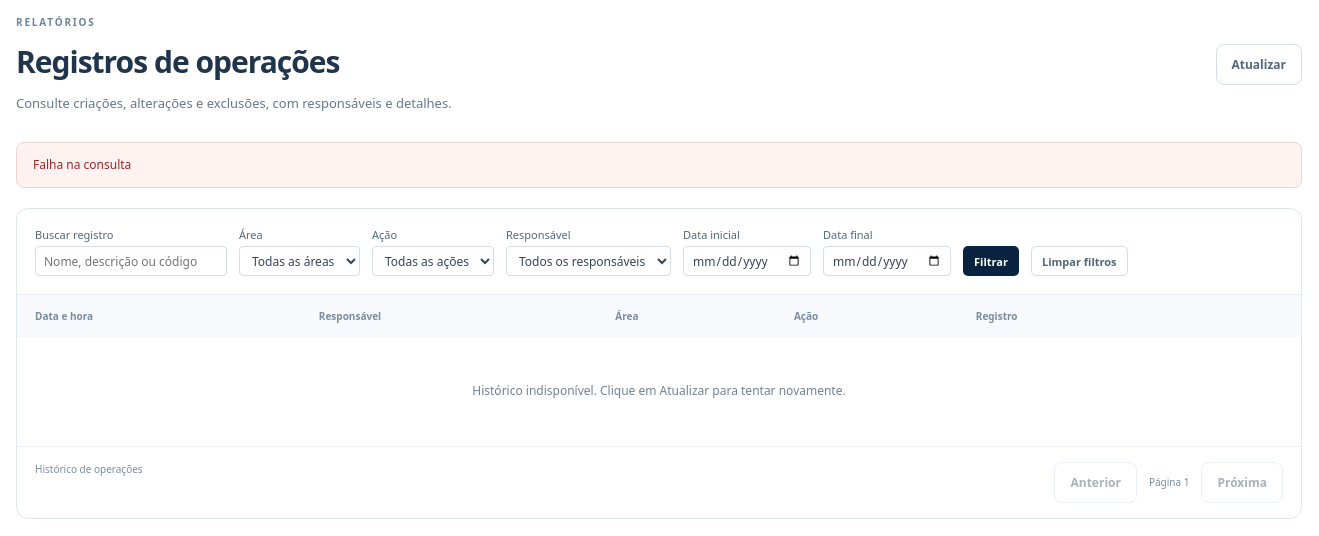
Scenario: separates unavailable data from an empty result and rejects reversed dates
Expected: the message reads "Falha na consulta", left=33, top=156, right=131, bottom=173
Type "2026-10-16" into the date field labelled "Data inicial" at (747,262), box left=683, top=246, right=811, bottom=276
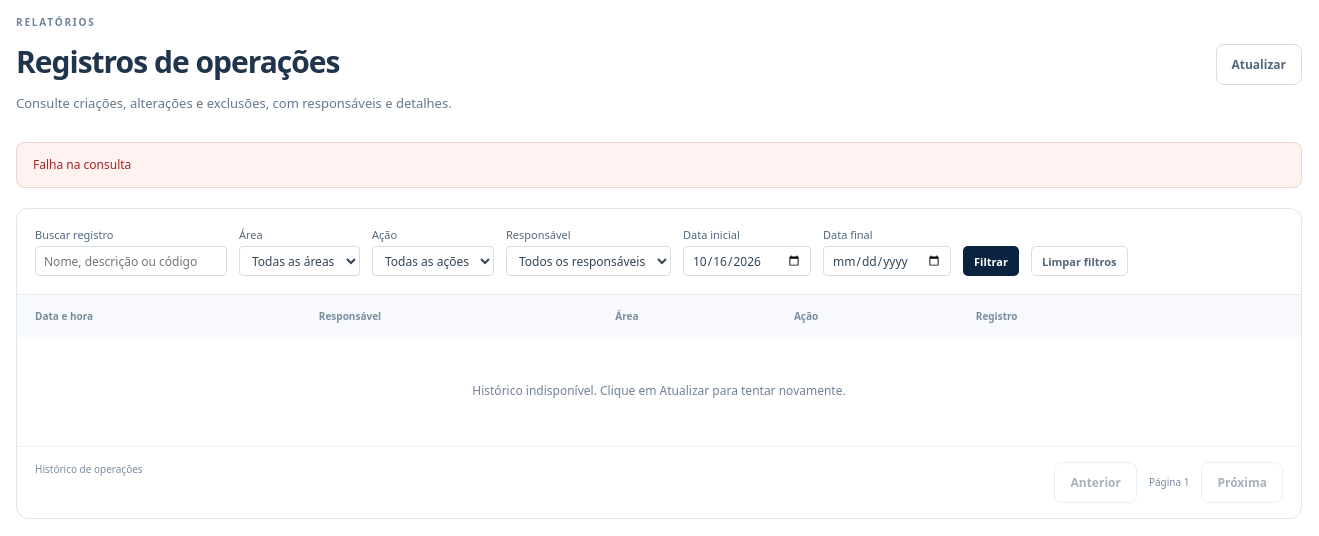
Type "2026-10-15" into the date field labelled "Data final" at (887,262), box left=823, top=246, right=951, bottom=276
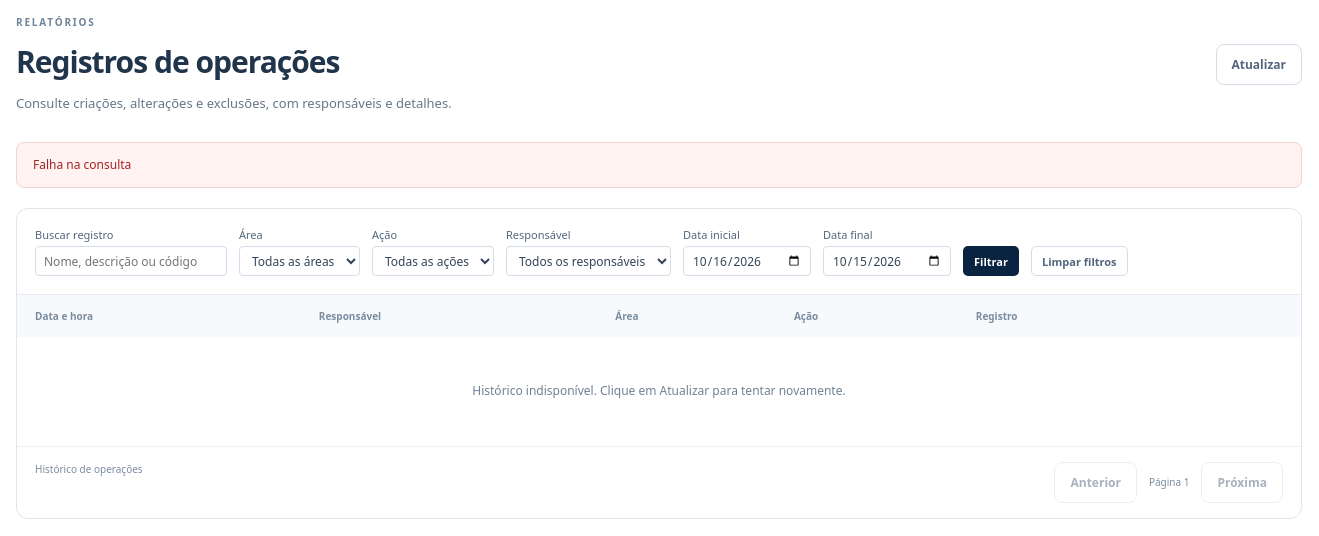
Click the button "Filtrar" at (991,262), box left=963, top=246, right=1019, bottom=276
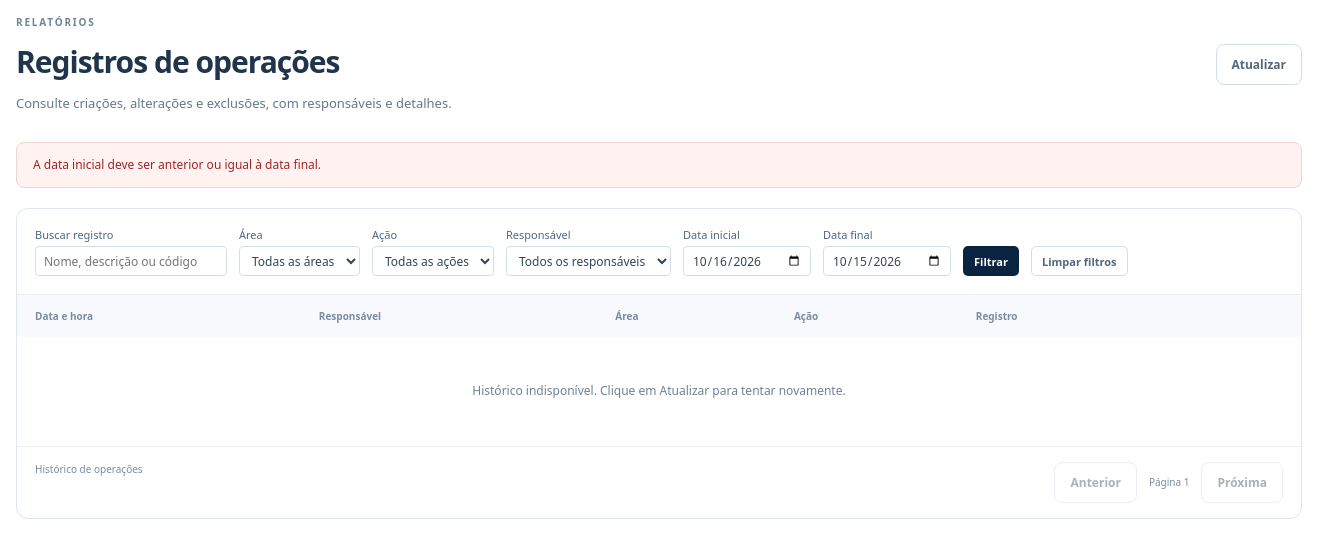
Expected: the message shows "A data inicial", left=33, top=156, right=321, bottom=173
